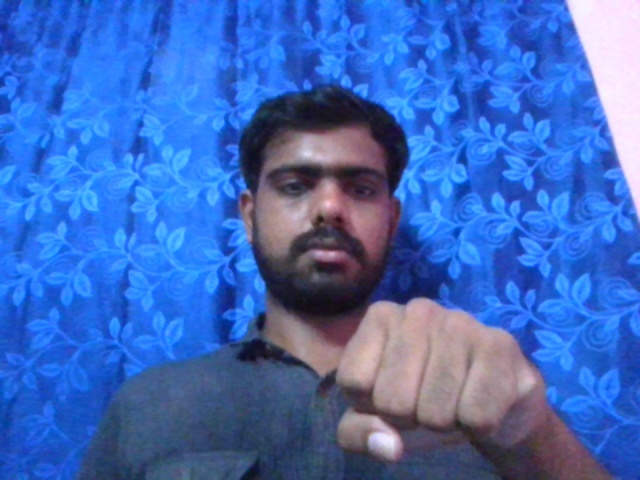Yes: (325, 296, 556, 458)
